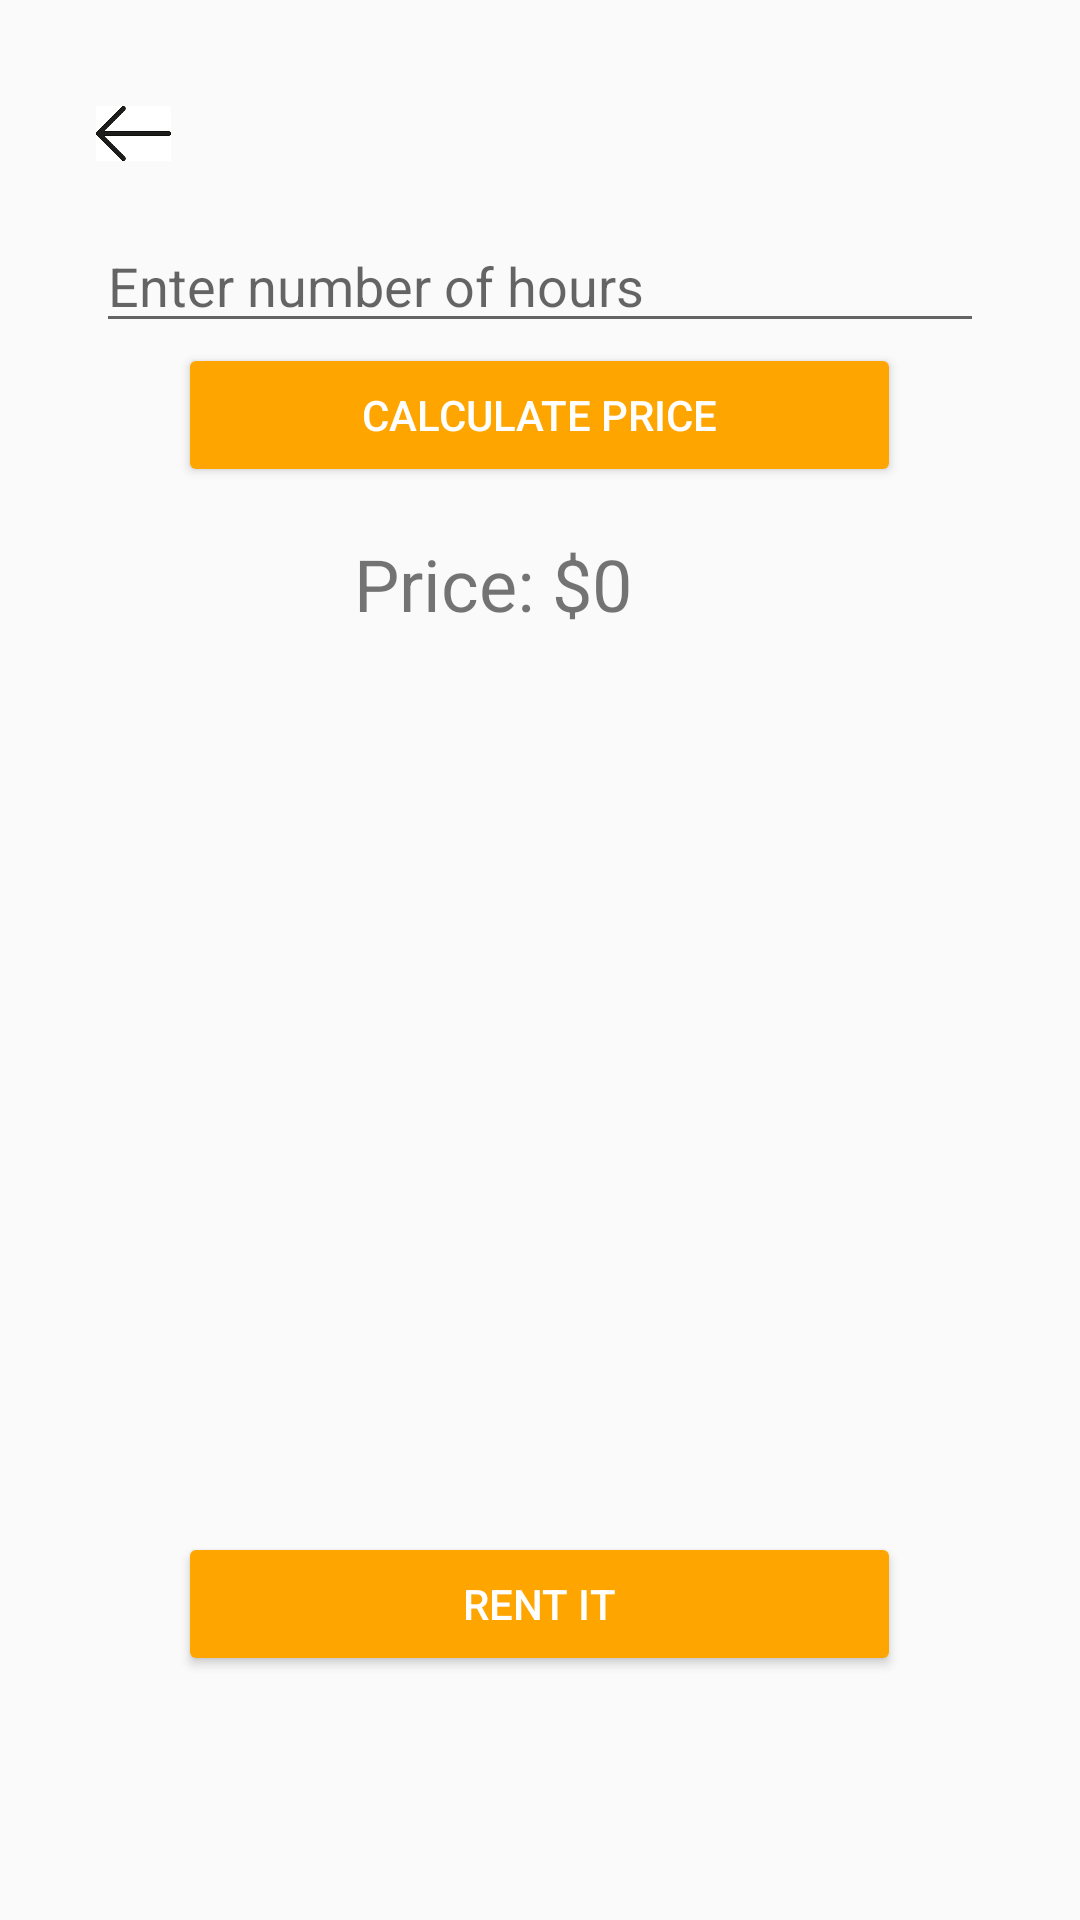

Screen size 1080px x 1920px. Icon name, then its box in pixels as (x1, y1, x2, y2):
backarrow: (96, 106, 171, 161)
